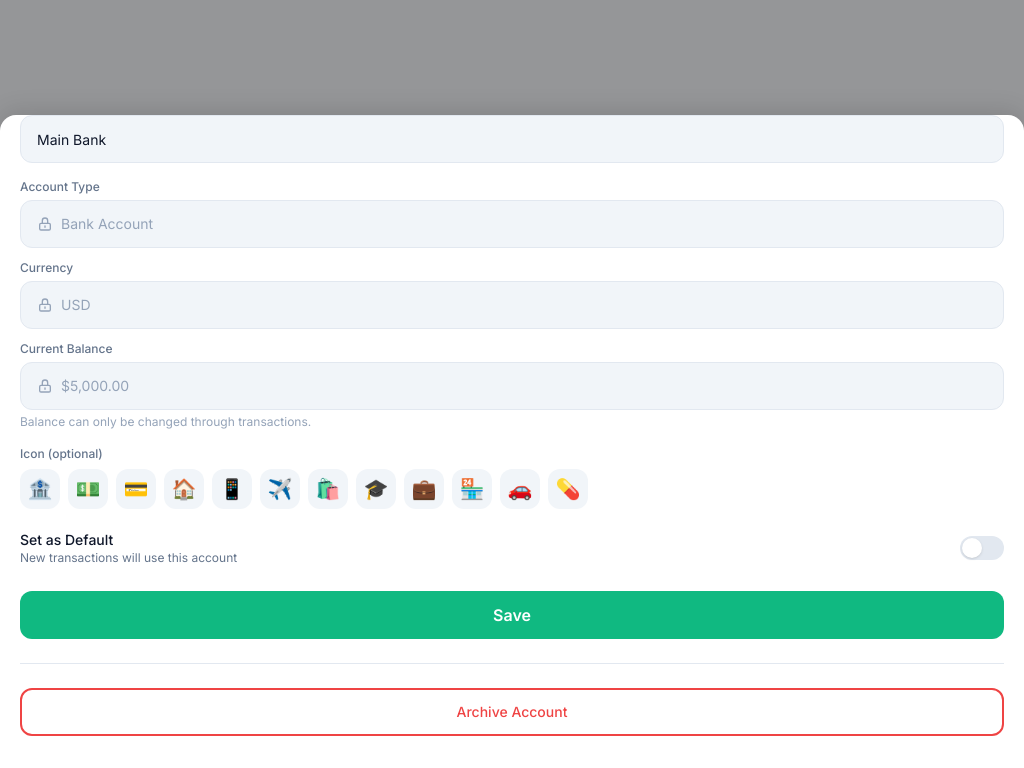
EditAccountSheet › shows archive confirmation dialog when archive button is clicked
(page scrolled)
What coordinates should you click on to do the following:
click the button "Archive Account"
I would click on:
 (512, 712)
Its box is x1=20 y1=688 x2=1004 y2=736.
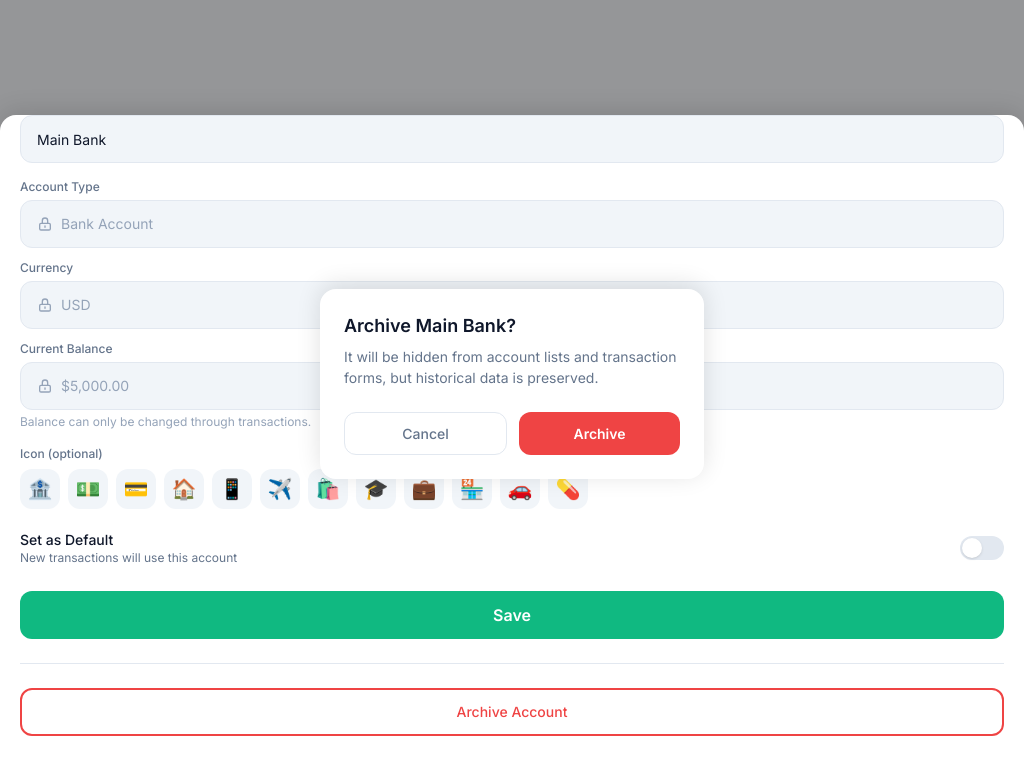
Result: the dialog is shown at x1=320 y1=289 x2=704 y2=479
Result: the text "Archive Main Bank?" is shown at x1=344 y1=315 x2=516 y2=336
